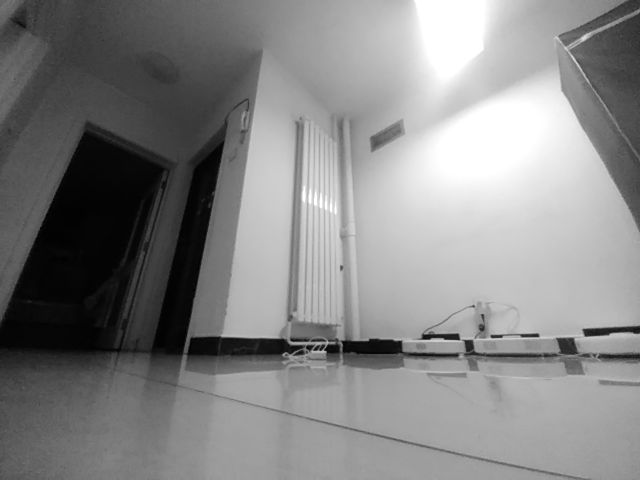wire: (282, 336, 328, 365)
